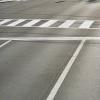Crosswalk: (1, 9, 100, 36)
